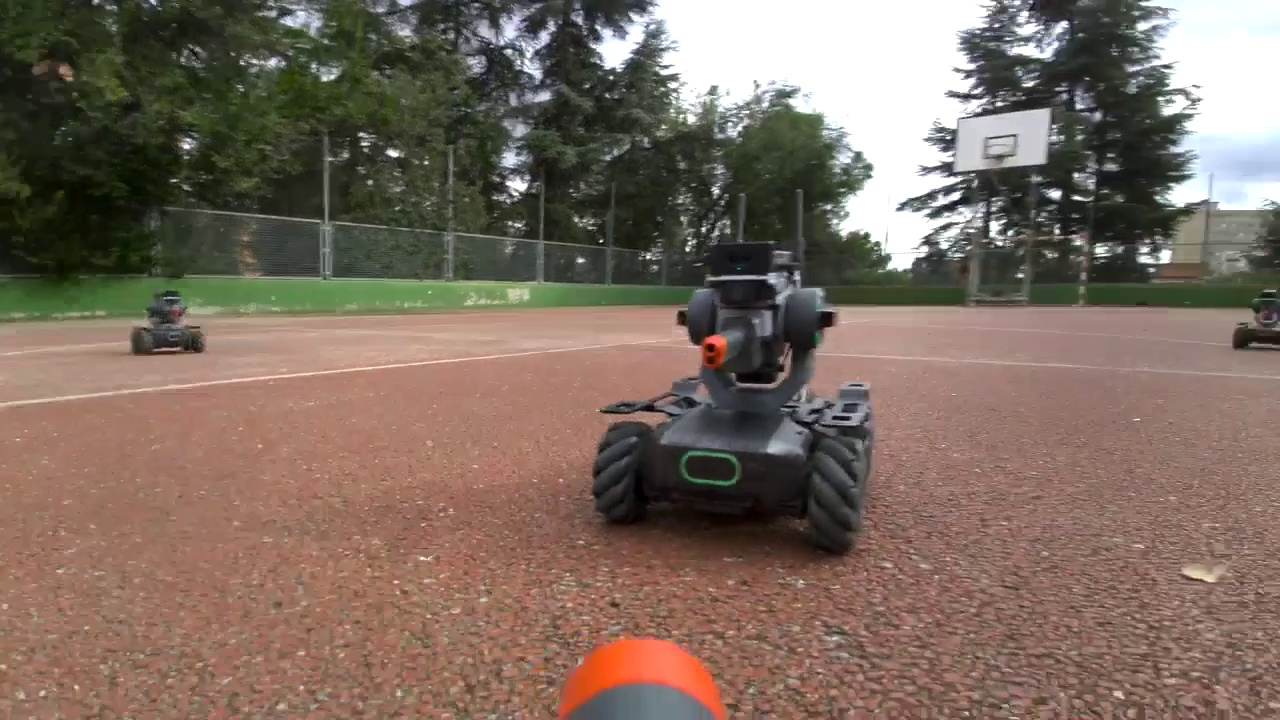robot: (593, 244, 870, 556), (135, 290, 206, 354), (1234, 289, 1280, 350)
